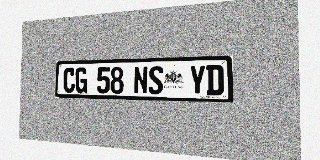5: (97, 67, 110, 93)
8: (110, 67, 124, 94)
C: (63, 68, 75, 93)
D: (206, 65, 224, 96)
G: (75, 67, 87, 93)
N: (134, 66, 148, 94)
S: (148, 66, 163, 94)
Y: (189, 65, 206, 95)
